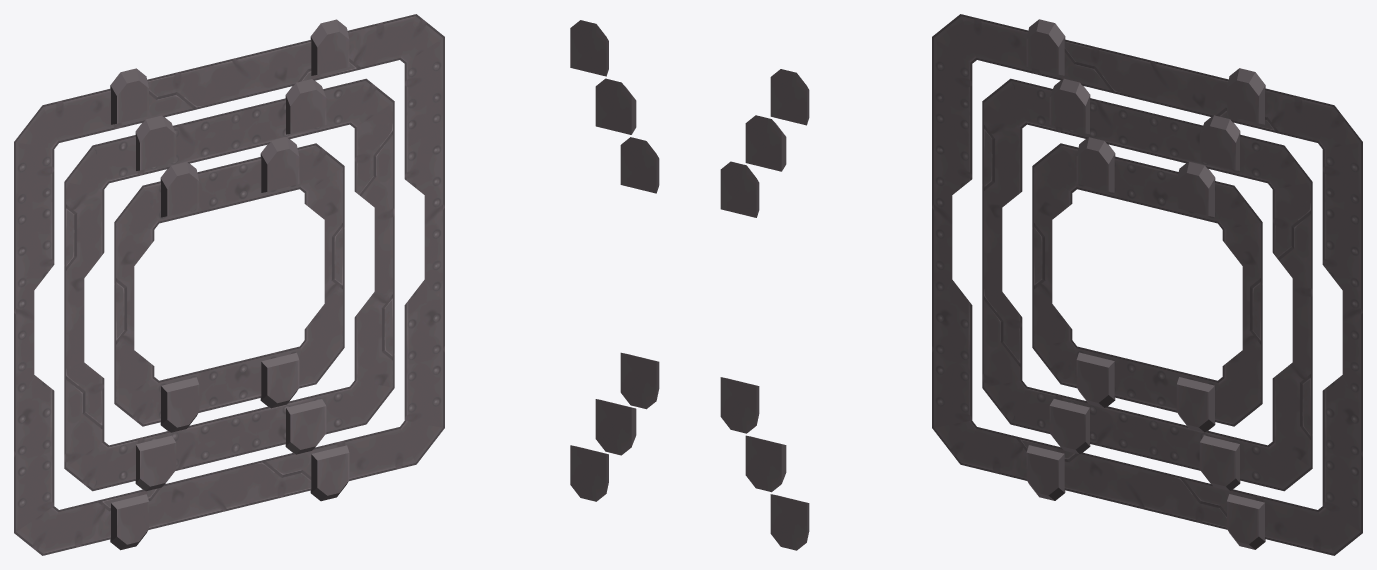
Rendered from grate_border.glb.
3 views of the same model, side by side, from view 1: azimuth 30°, elevation 25°; view 2: azimuth 150°, elevation 25°; view 3: azimuth 330°, elevation 25° (orthographic).
Parts seen in each view (by area): view 1: eastside.grate_border-MeshSets[eastside_grateborder_x4].Mesh, eastside.grate_border-MeshSets[eastside_grateborder_x3].Mesh, eastside.grate_border-MeshSets[eastside_grateborder_x2].Mesh; view 2: eastside.grate_border-MeshSets[eastside_grateborder_x3].Mesh, eastside.grate_border-MeshSets[eastside_grateborder_x2].Mesh, eastside.grate_border-MeshSets[eastside_grateborder_x4].Mesh; view 3: eastside.grate_border-MeshSets[eastside_grateborder_x4].Mesh, eastside.grate_border-MeshSets[eastside_grateborder_x3].Mesh, eastside.grate_border-MeshSets[eastside_grateborder_x2].Mesh.
Part boxes in pixels (box(x1,y1,x2,y2)): eastside.grate_border-MeshSets[eastside_grateborder_x4].Mesh: box(14, 14, 444, 555); eastside.grate_border-MeshSets[eastside_grateborder_x3].Mesh: box(64, 78, 394, 491); eastside.grate_border-MeshSets[eastside_grateborder_x2].Mesh: box(114, 137, 344, 432); eastside.grate_border-MeshSets[eastside_grateborder_x3].Mesh: box(595, 78, 786, 492); eastside.grate_border-MeshSets[eastside_grateborder_x2].Mesh: box(620, 137, 759, 433); eastside.grate_border-MeshSets[eastside_grateborder_x4].Mesh: box(570, 20, 809, 550); eastside.grate_border-MeshSets[eastside_grateborder_x4].Mesh: box(932, 14, 1362, 555); eastside.grate_border-MeshSets[eastside_grateborder_x3].Mesh: box(982, 78, 1312, 491); eastside.grate_border-MeshSets[eastside_grateborder_x2].Mesh: box(1032, 137, 1262, 432).
Bounding box in the file's own units: 4.3 × 4.56 × 0.08.
1 material, 1 textured.
